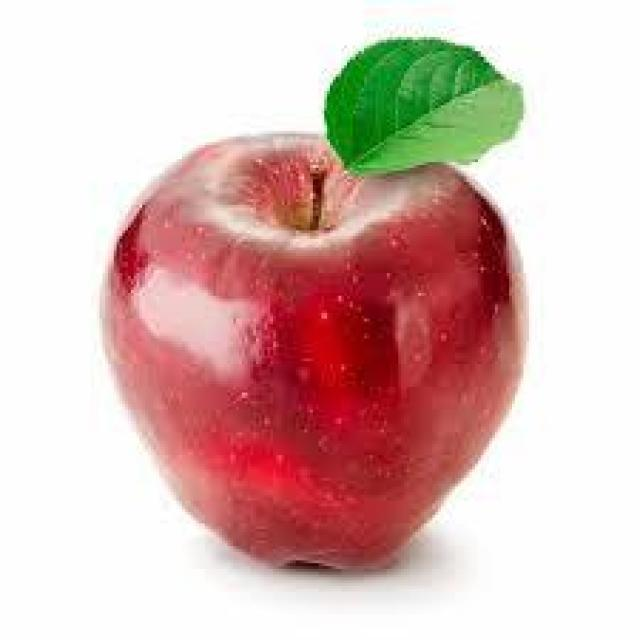apple: (104, 36, 524, 568)
